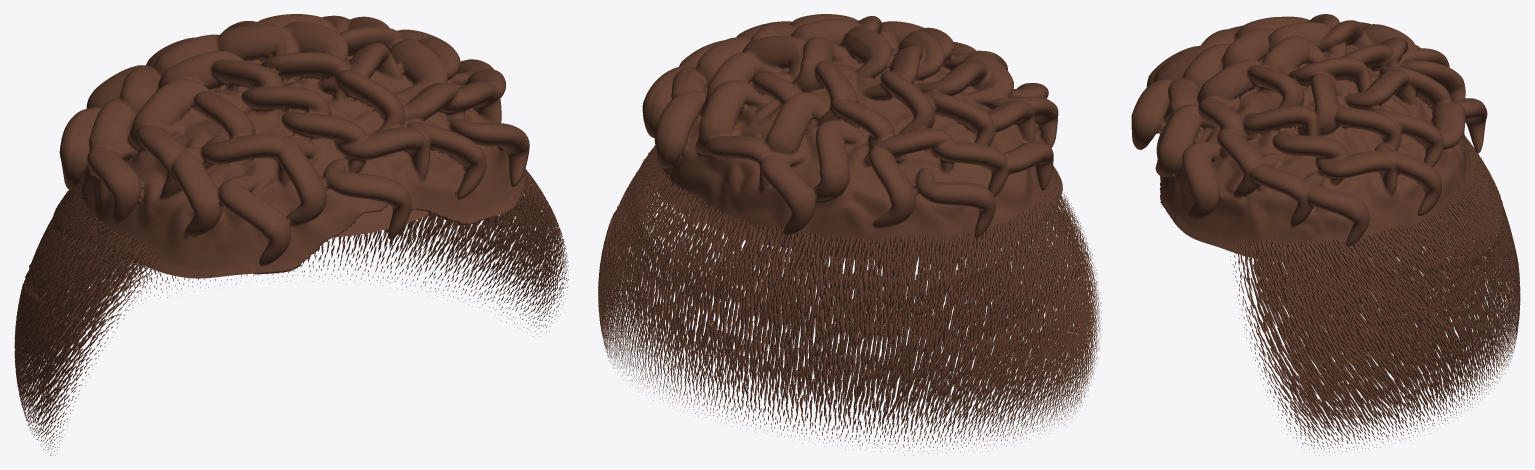
Rendered from Masculine-curly-top-headband254-hair.glb.
The picture shows the model from 3 angles, left to right: view 1: azimuth 30°, elevation 25°; view 2: azimuth 150°, elevation 25°; view 3: azimuth 270°, elevation 25°; orthographic projection. The views are drawn at different scales.
Visible parts, largest first — view 1: 226 hair / Hair252 / sculpted curl groups, 226 hair / Hair254 / rooted short groom; view 2: 226 hair / Hair254 / rooted short groom, 226 hair / Hair252 / sculpted curl groups; view 3: 226 hair / Hair252 / sculpted curl groups, 226 hair / Hair254 / rooted short groom.
Part boxes in pixels (bbox=[...]): 226 hair / Hair252 / sculpted curl groups: bbox=[59, 14, 529, 278]; 226 hair / Hair254 / rooted short groom: bbox=[14, 168, 568, 455]; 226 hair / Hair254 / rooted short groom: bbox=[598, 145, 1102, 455]; 226 hair / Hair252 / sculpted curl groups: bbox=[642, 14, 1062, 258]; 226 hair / Hair252 / sculpted curl groups: bbox=[1131, 14, 1487, 260]; 226 hair / Hair254 / rooted short groom: bbox=[1156, 135, 1520, 455].
Size of the model in its own units: 0.9716 by 0.6616 by 0.7501.
